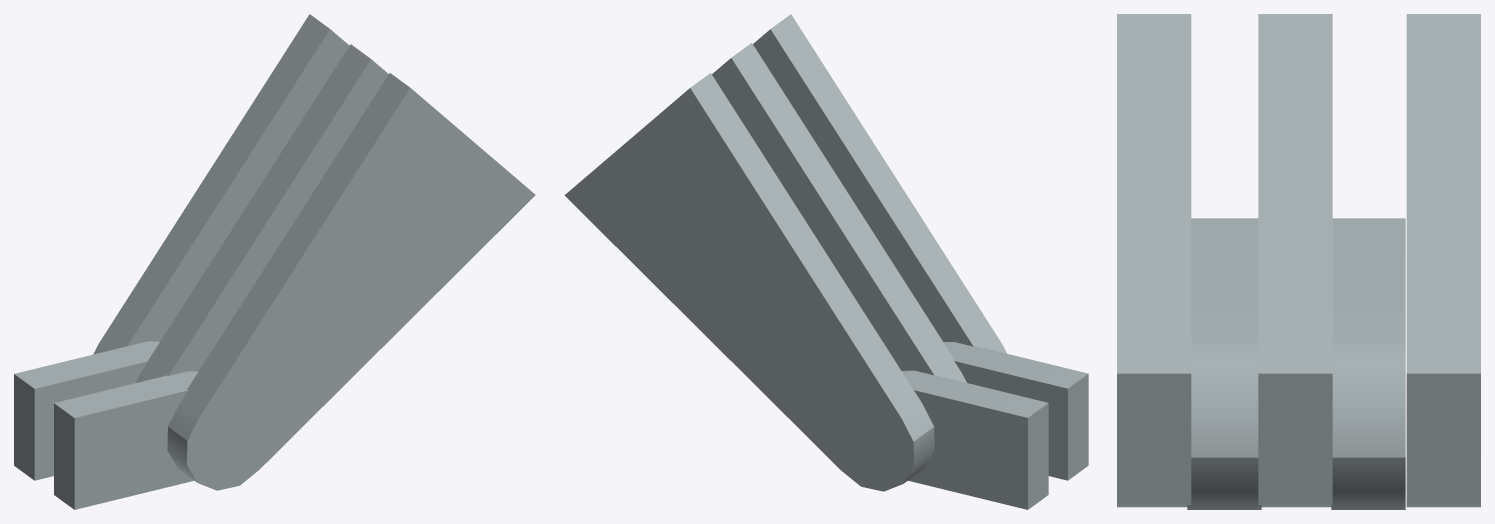
Rendered from MonitorArm.fbx.
3 renders of one model, left to right at view 1: azimuth 30°, elevation 25°; view 2: azimuth 150°, elevation 25°; view 3: azimuth 270°, elevation 25°, orthographic. The views are drawn at different scales.
Parts seen in each view (by area): view 1: pasted__pCube10, pasted__pCube11, pasted__pCube5, pasted__pCube3, pasted__pCube4; view 2: pasted__pCube11, pasted__pCube5, pasted__pCube10, pasted__pCube4, pasted__pCube3; view 3: pasted__pCube11, pasted__pCube10, pasted__pCube5, pasted__pCube4, pasted__pCube3.
Part boxes in pixels (x1,y1,x2,y2): pasted__pCube10: [167, 73, 535, 490]; pasted__pCube11: [93, 14, 349, 354]; pasted__pCube5: [135, 44, 388, 382]; pasted__pCube3: [54, 371, 197, 509]; pasted__pCube4: [14, 341, 159, 480]; pasted__pCube11: [564, 73, 934, 491]; pasted__pCube5: [712, 43, 966, 382]; pasted__pCube10: [753, 14, 1006, 353]; pasted__pCube4: [902, 370, 1048, 509]; pasted__pCube3: [943, 341, 1088, 480]; pasted__pCube11: [1406, 14, 1480, 507]; pasted__pCube10: [1117, 14, 1191, 507]; pasted__pCube5: [1258, 14, 1332, 507]; pasted__pCube4: [1331, 218, 1405, 509]; pasted__pCube3: [1187, 218, 1261, 509].
Bounding box in the file's own units: 25.69 × 19.96 × 10.15.
1 material, 1 textured.
